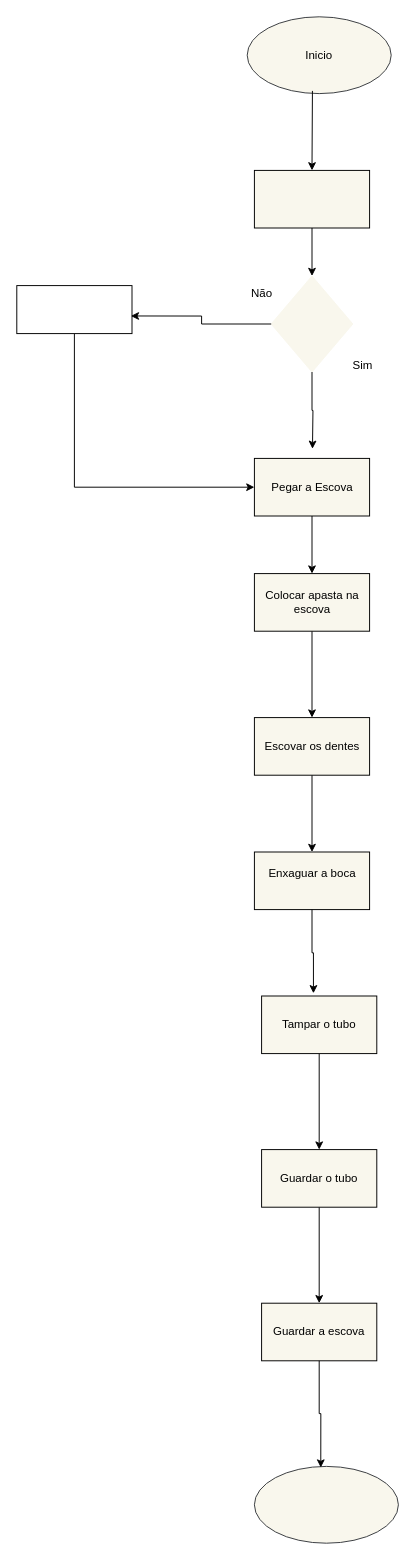
This 416x1560 diagram has some shape labels left out. The centre of each missing label's shape, as x and y in pixels:
"Abrir o tubo" goes at (74,309).
"Fim" goes at (325,1504).
"Pegar o creme dental" goes at (311,198).
"Tubo está aberto?" goes at (311,323).
